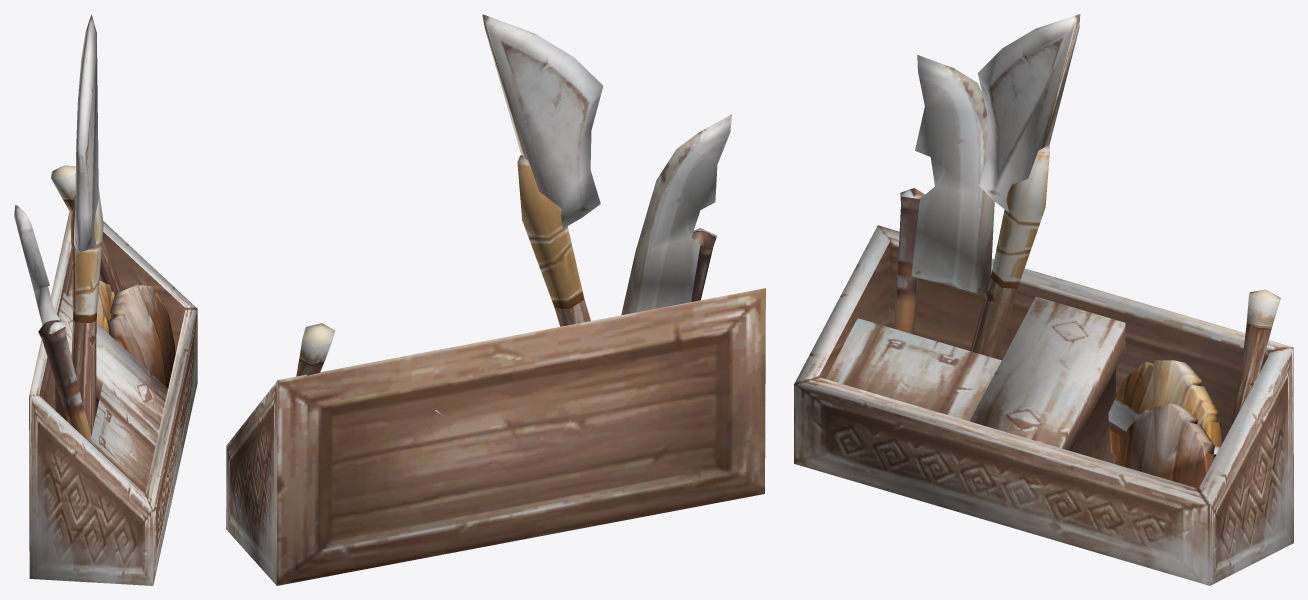
File: SM_Weapon_01.fbx
The picture shows the model from 3 angles, left to right: view 1: azimuth 30°, elevation 25°; view 2: azimuth 150°, elevation 25°; view 3: azimuth 270°, elevation 25°; orthographic projection. The views are drawn at different scales.
Visible parts, largest first — view 1: SM_Weapon_01; view 2: SM_Weapon_01; view 3: SM_Weapon_01.
Part boxes in pixels (box(x1,y1,x2,y2)): SM_Weapon_01: box(14, 14, 197, 585); SM_Weapon_01: box(226, 14, 765, 585); SM_Weapon_01: box(794, 14, 1293, 585).
Bounding box in the file's own units: 0.963 × 1.3 × 1.2.
